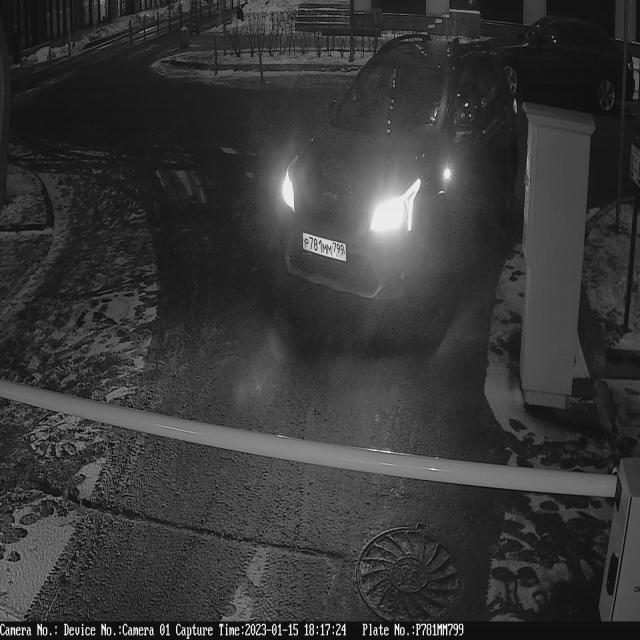car-plate-numbers: (301, 229, 350, 269)
